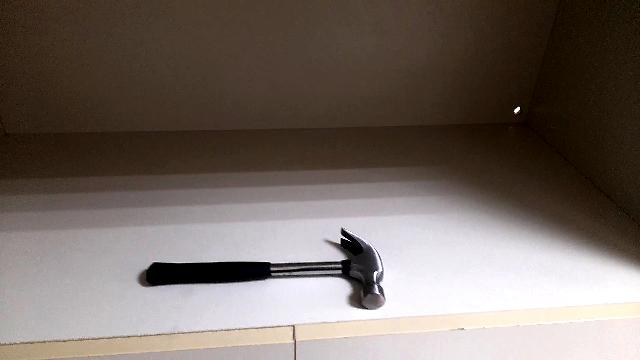hammer: (136, 228, 392, 314)
